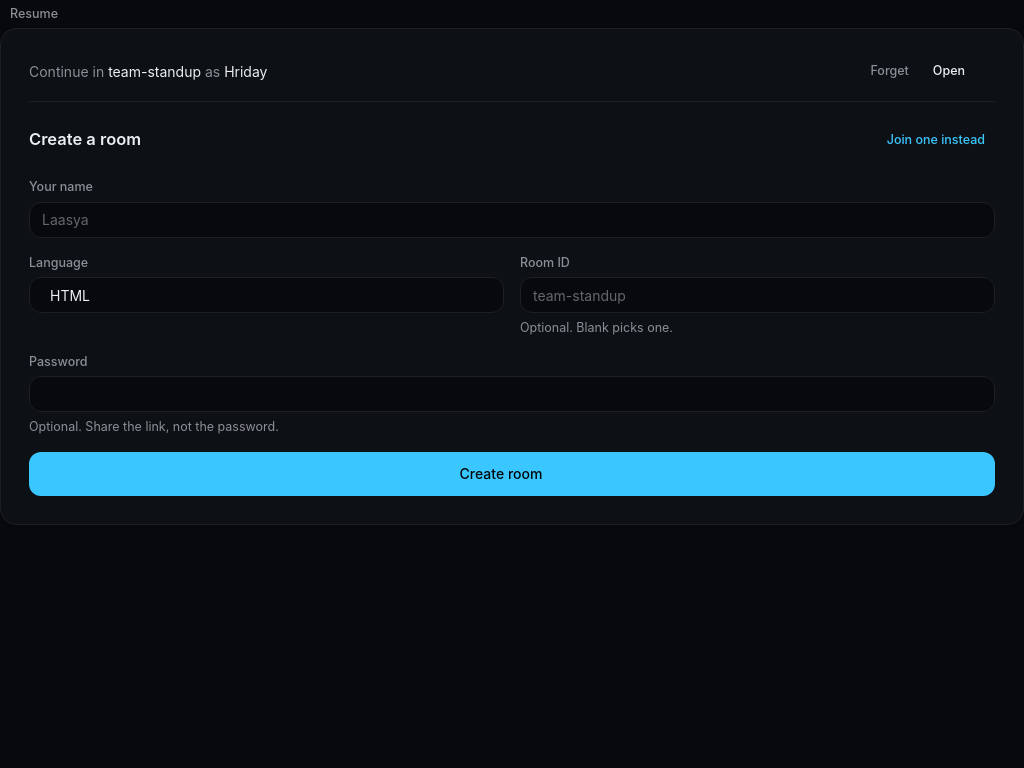
Test: StartPanel › shows a resume row that can forget the session
Expected: the text "Continue in team-standup as Hriday" is shown, 29,60 -> 268,82
Click the button "Forget": {"x": 890, "y": 71} 860,57 -> 919,85
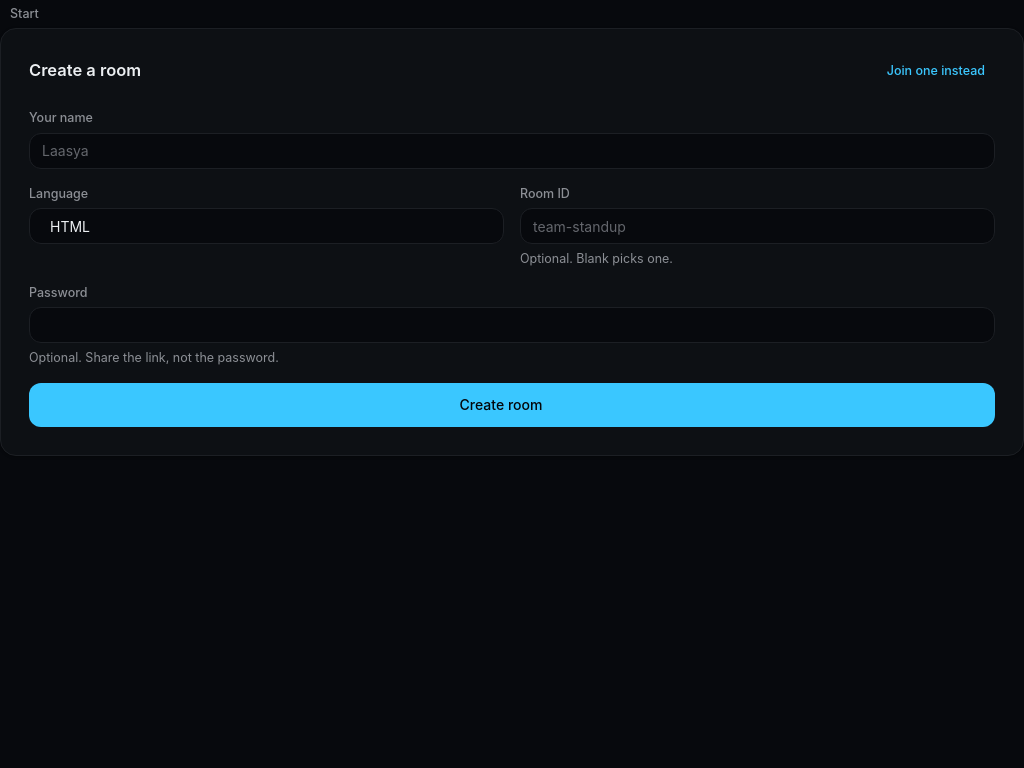
Expected: the text "Continue in" is gone
